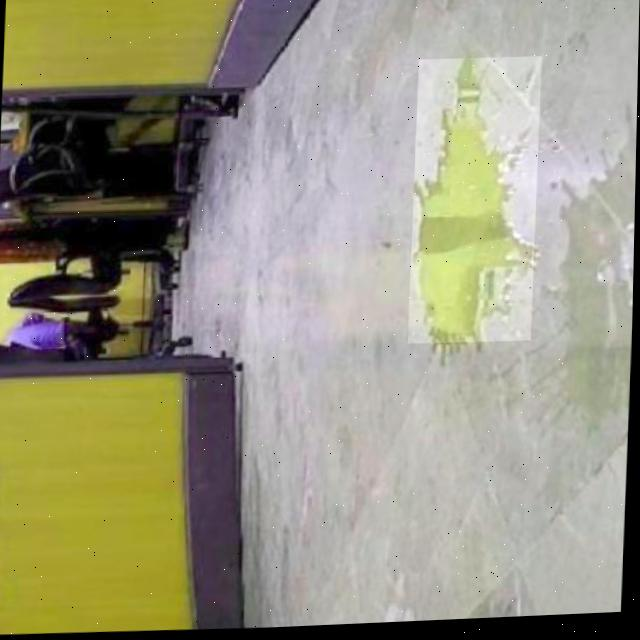spillage: (415, 62, 534, 345)
